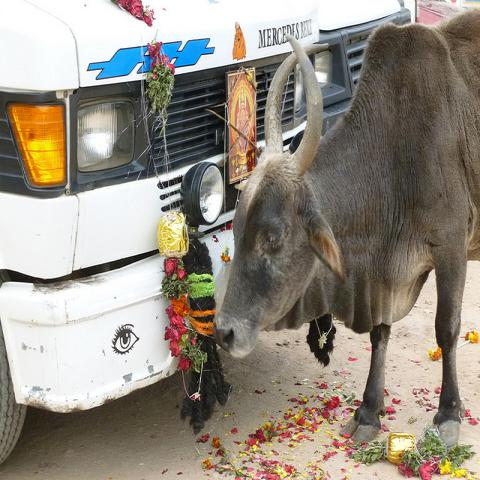bus: (0, 0, 417, 464)
truck: (1, 2, 411, 397)
